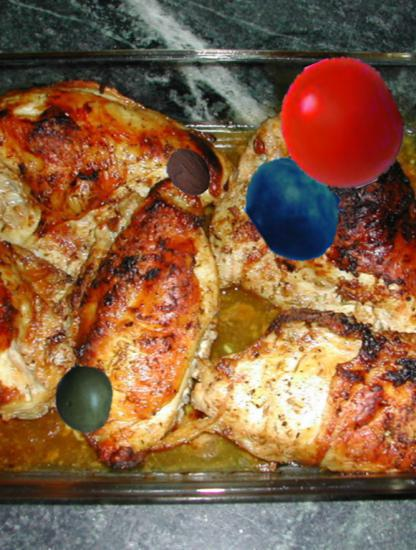Cocos: (164, 147, 215, 198)
Huckleberry: (241, 153, 351, 263)
Mango: (49, 363, 120, 434)
Tomato: (275, 58, 407, 190)
